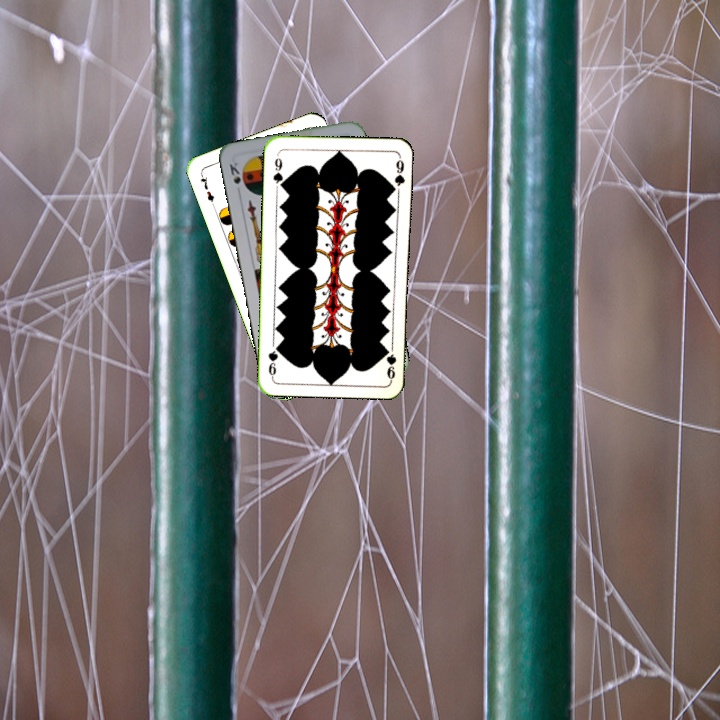E7: (196, 170, 218, 209)
G9: (269, 154, 286, 191), (382, 345, 399, 382)
SK: (225, 158, 243, 198)
